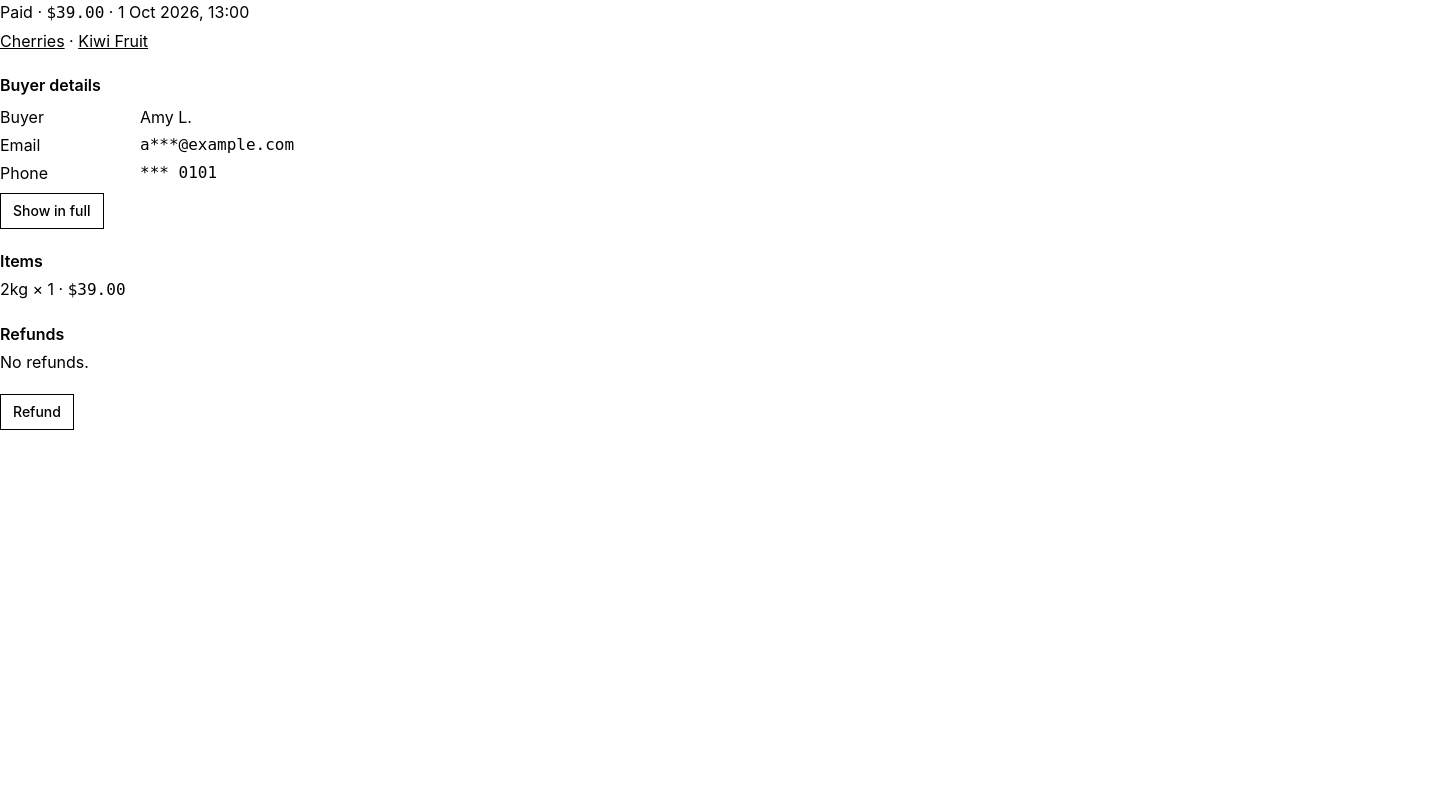
Test: MaskedPii (in the order drawer) › shows the buyer masked, and in full only after a reveal with a reason
Expected: the text "a***@example.com" is shown, [140,135,294,154]
Expected: the text "amy.lee@example.com" is not shown
Click the button "Show in full" at (52,211), box [0,193,104,229]
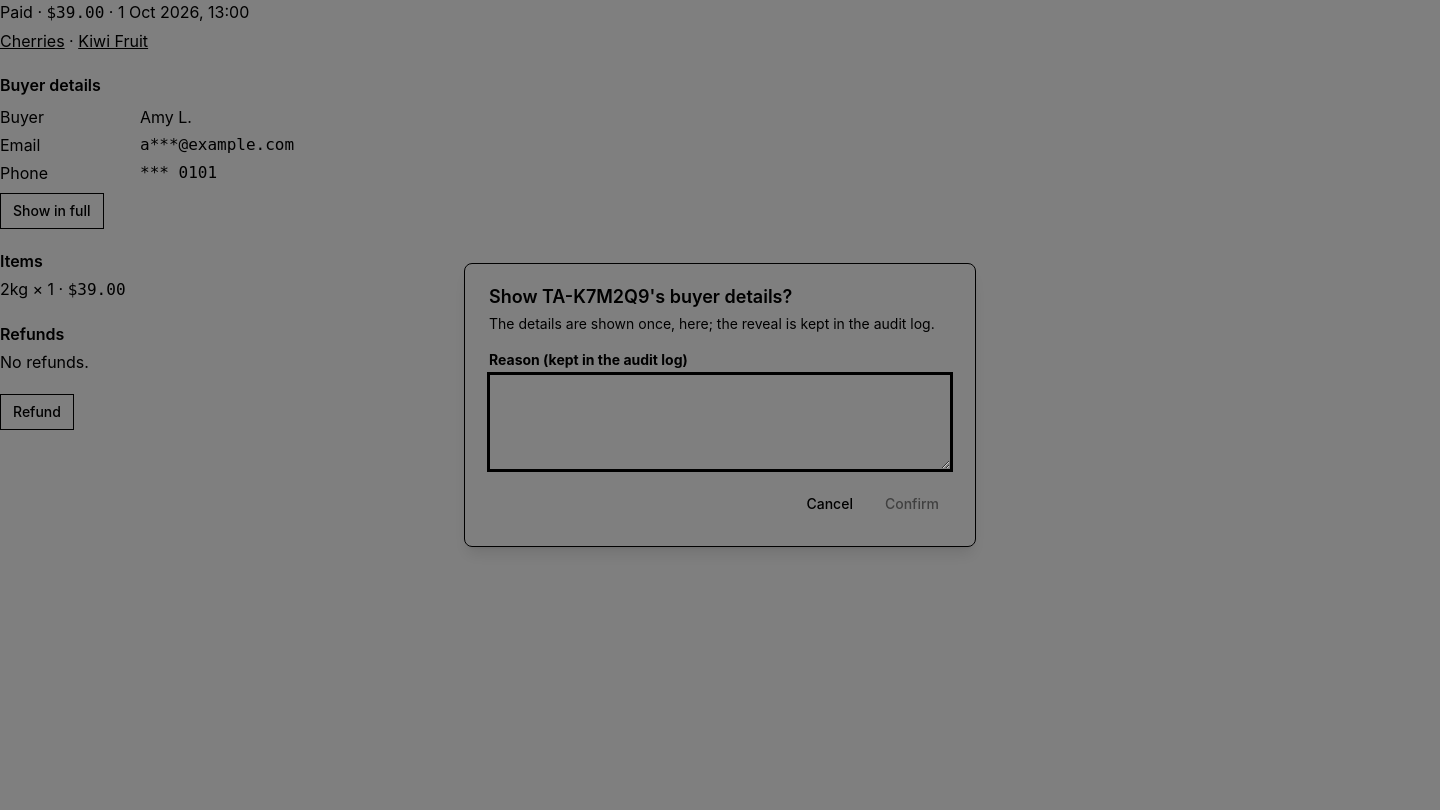
Type "  Complaint #12 " into the text box labelled "Reason (kept in the audit log)" at (720,422), box [489,374,951,470]
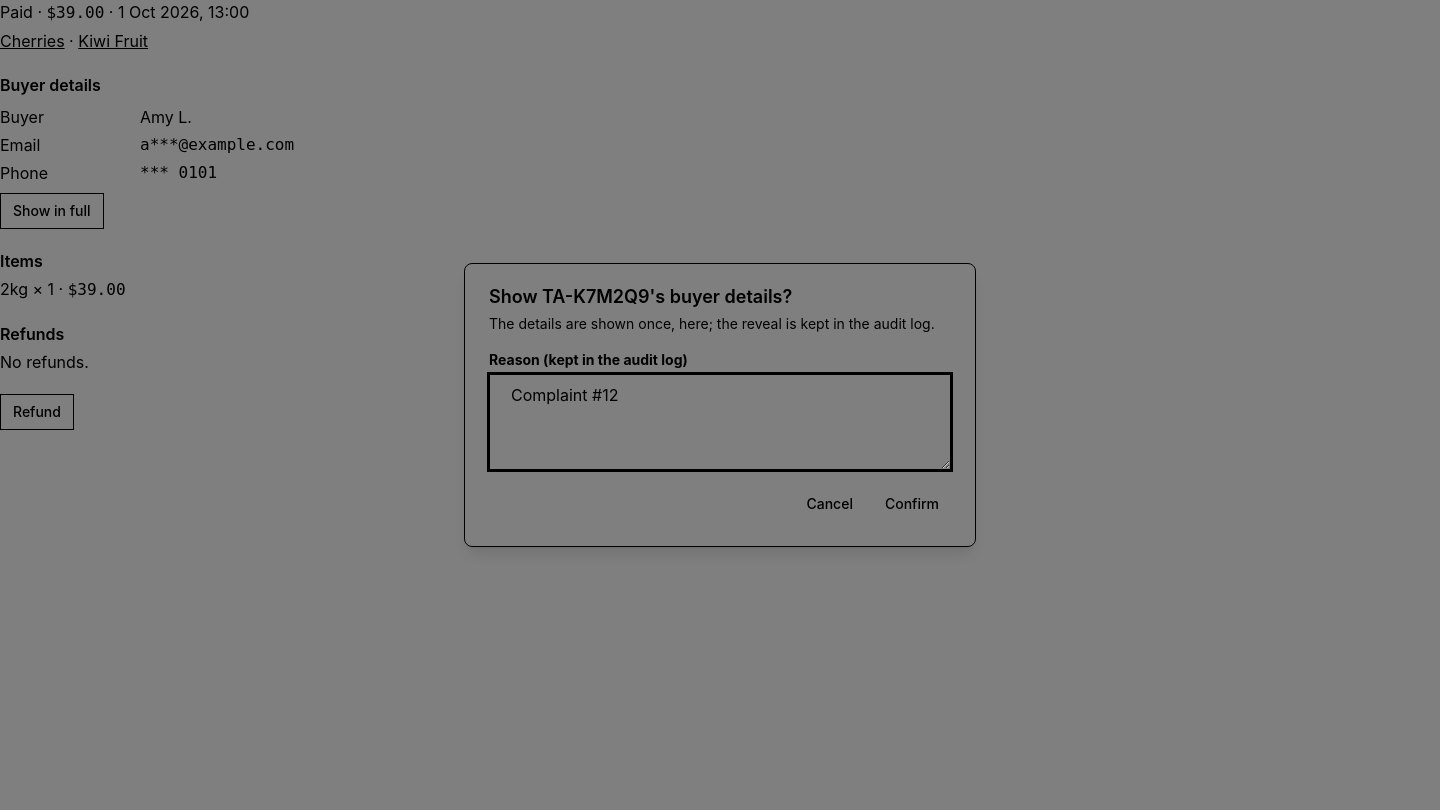
Click the button "Confirm" at (912,504), box [873,486,951,522]
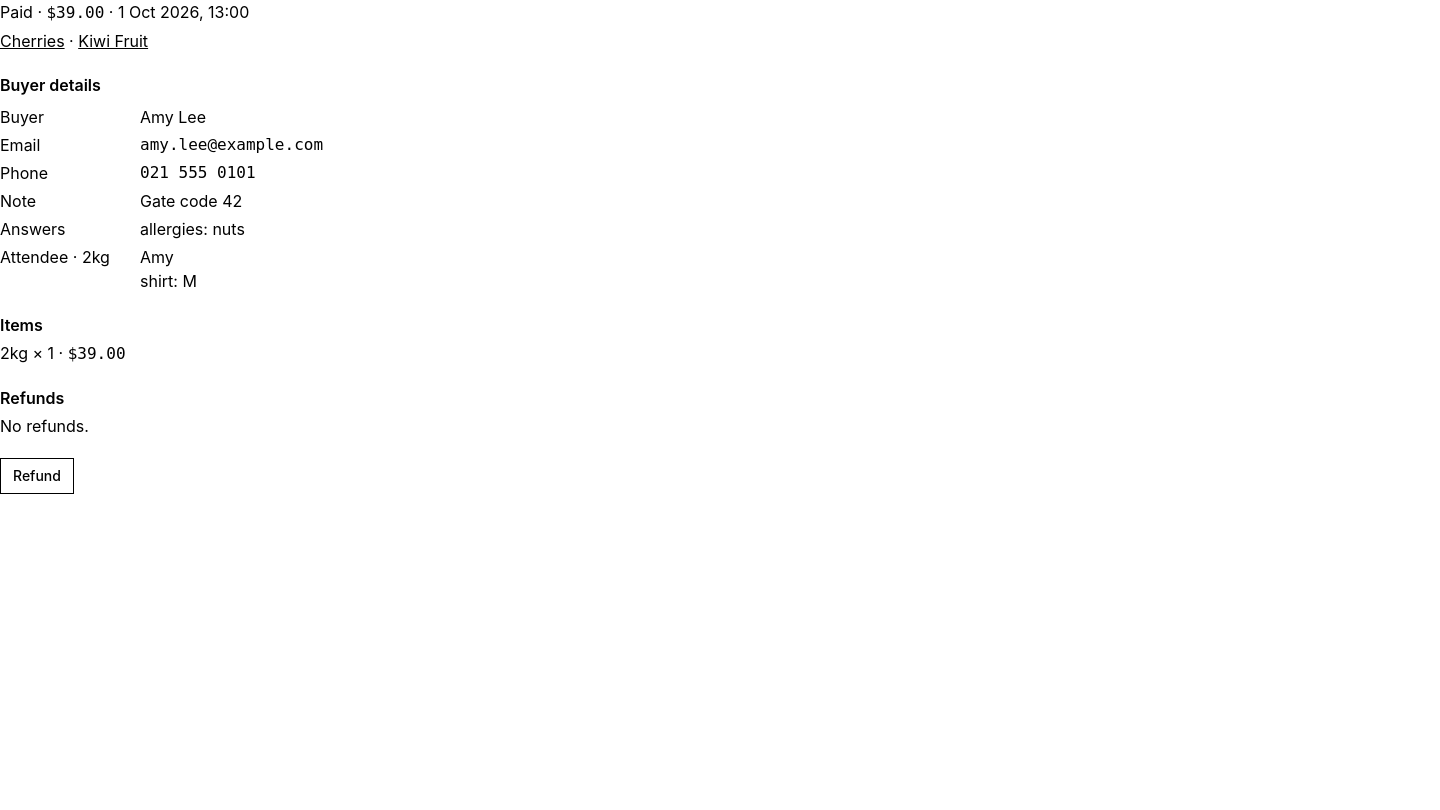
Result: the text "amy.lee@example.com" is shown at [140,135,323,154]
Result: the text "a***@example.com" is gone
Result: the text "021 555 0101" is shown at [140,163,256,182]
